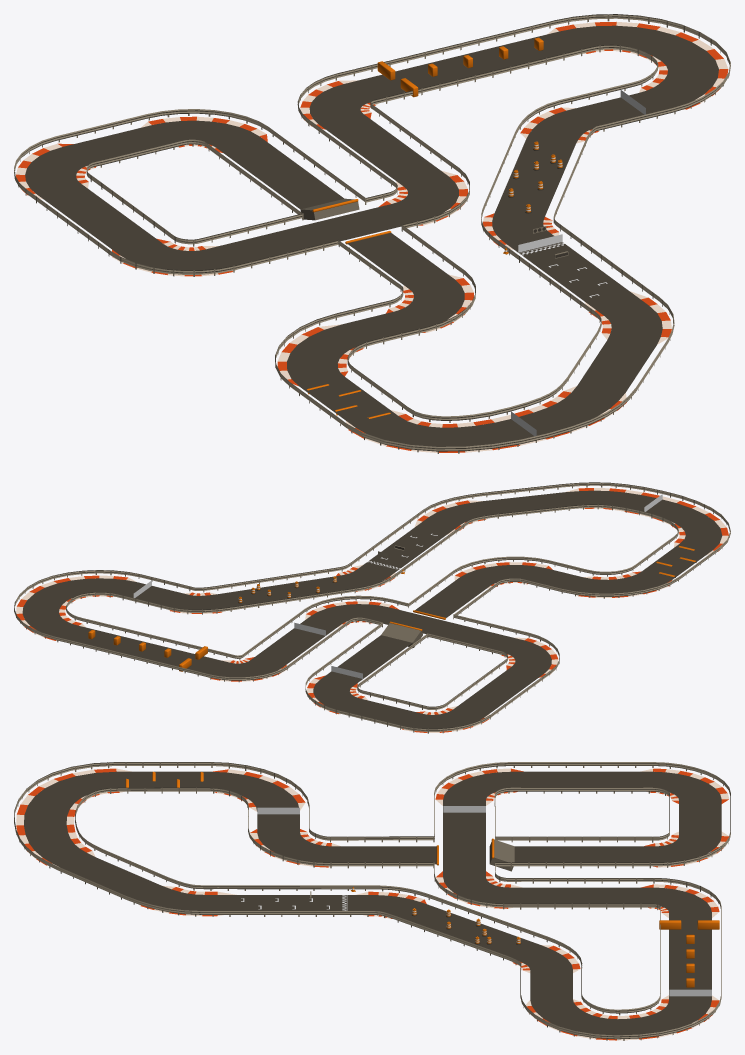
The model's file is areas.glb.
The picture shows the model from 3 angles, top to bottom: view 1: azimuth 30°, elevation 25°; view 2: azimuth 150°, elevation 25°; view 3: azimuth 270°, elevation 25°; orthographic projection. The views are drawn at different scales.
Visible parts, largest first — view 1: refCircuitRoad, refCircuitRails, curveBumpers, jump; view 2: refCircuitRoad, refCircuitRails, curveBumpers, jump; view 3: refCircuitRoad, refCircuitRails, curveBumpers, jump.
Boxes of the visible parts, x1,y1,x2,y2 form: refCircuitRoad: (25,25,718,446); refCircuitRails: (14,14,730,453); curveBumpers: (16,21,728,452); jump: (300,198,359,220); refCircuitRoad: (22,490,722,728); refCircuitRails: (14,482,730,733); curveBumpers: (16,488,728,732); jump: (381,623,422,647); refCircuitRoad: (24,771,721,1035); refCircuitRails: (14,762,730,1040); curveBumpers: (16,768,729,1040); jump: (489,839,514,871).
Bounding box in the file's own units: 151 × 6.17 × 167.
